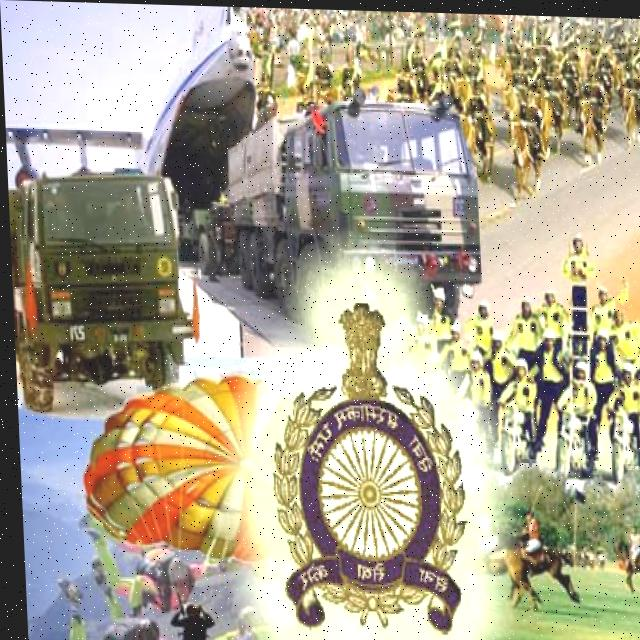unit number: (64, 321, 84, 343), (449, 192, 465, 216)
